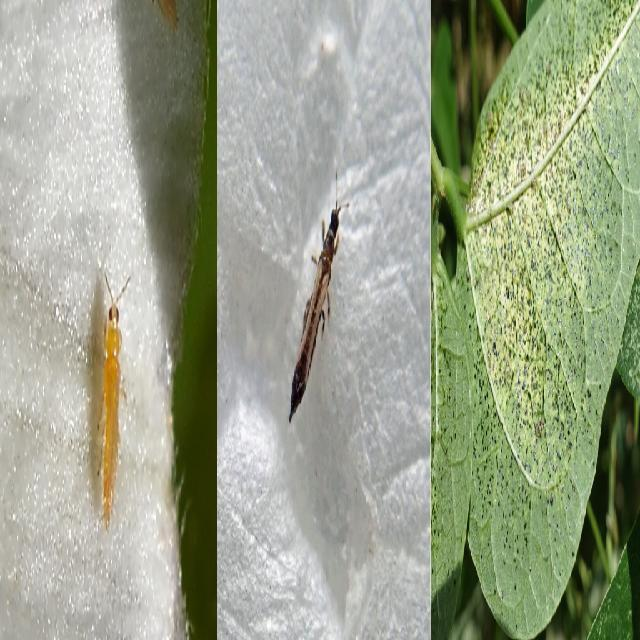Thrip-Adult-: (285, 162, 352, 429), (92, 258, 130, 531)
Thrip-Group-: (482, 88, 592, 490)
